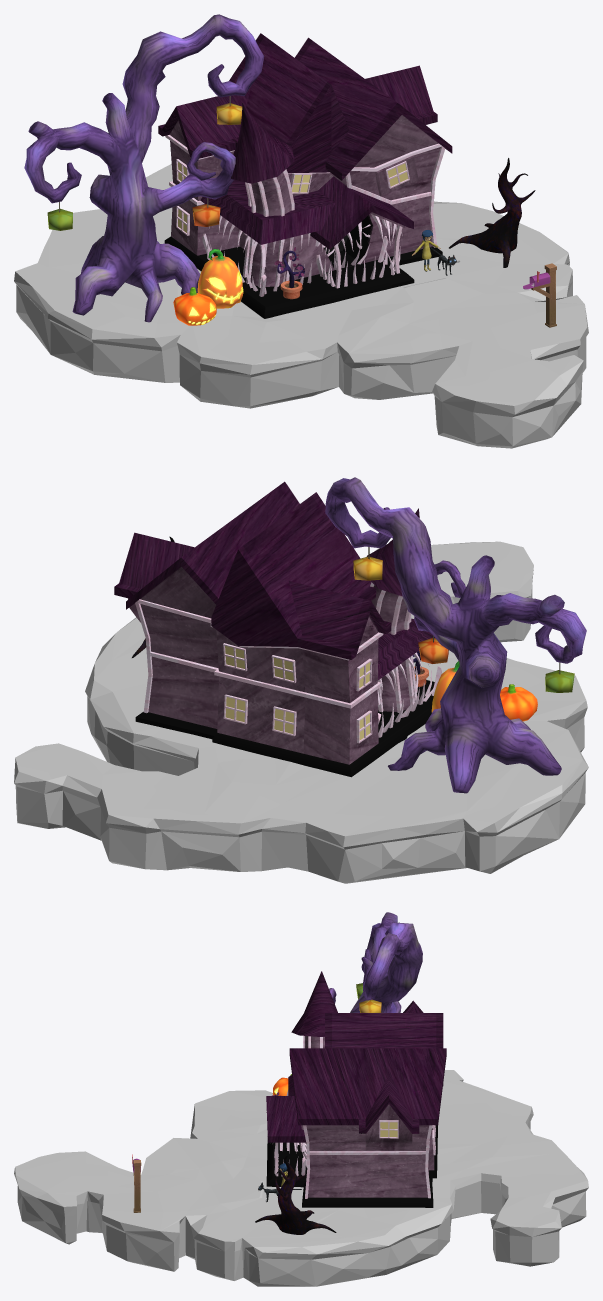
File: coralineMonsterHouse.gltf
3 renders of one model, top to bottom at view 1: azimuth 30°, elevation 25°; view 2: azimuth 150°, elevation 25°; view 3: azimuth 270°, elevation 25°, orthographic. The views are drawn at different scales.
Visible parts, largest first — view 1: floating_island_1.1_1, _01 - Default_0, Jack_tree, tree, Jack_o_lerntern_long, Jack_tree_pumpkin, Jack_o_lerntern_oblong, Mail box; view 2: floating_island_1.1_1, _01 - Default_0, Jack_tree, Jack_tree_pumpkin, Jack_o_lerntern_oblong; view 3: floating_island_1.1_1, _01 - Default_0, Jack_tree, tree.
Part boxes in pixels (left/top/right/bottom): floating_island_1.1_1: left=14, top=164, right=588, bottom=448; _01 - Default_0: left=158, top=33, right=452, bottom=318; Jack_tree: left=24, top=14, right=264, bottom=322; tree: left=449, top=158, right=535, bottom=267; Jack_o_lerntern_long: left=197, top=249, right=243, bottom=308; Jack_tree_pumpkin: left=47, top=96, right=242, bottom=230; Jack_o_lerntern_oblong: left=173, top=287, right=216, bottom=325; Mail box: left=523, top=263, right=556, bottom=327; floating_island_1.1_1: left=14, top=541, right=588, bottom=883; _01 - Default_0: left=114, top=481, right=441, bottom=777; Jack_tree: left=325, top=477, right=586, bottom=793; Jack_tree_pumpkin: left=353, top=547, right=574, bottom=692; Jack_o_lerntern_oblong: left=500, top=684, right=537, bottom=721; floating_island_1.1_1: left=14, top=1070, right=588, bottom=1286; _01 - Default_0: left=266, top=971, right=446, bottom=1207; Jack_tree: left=329, top=912, right=422, bottom=1012; tree: left=255, top=1155, right=336, bottom=1234.
Size of the model in its own units: 357 by 210 by 449.
